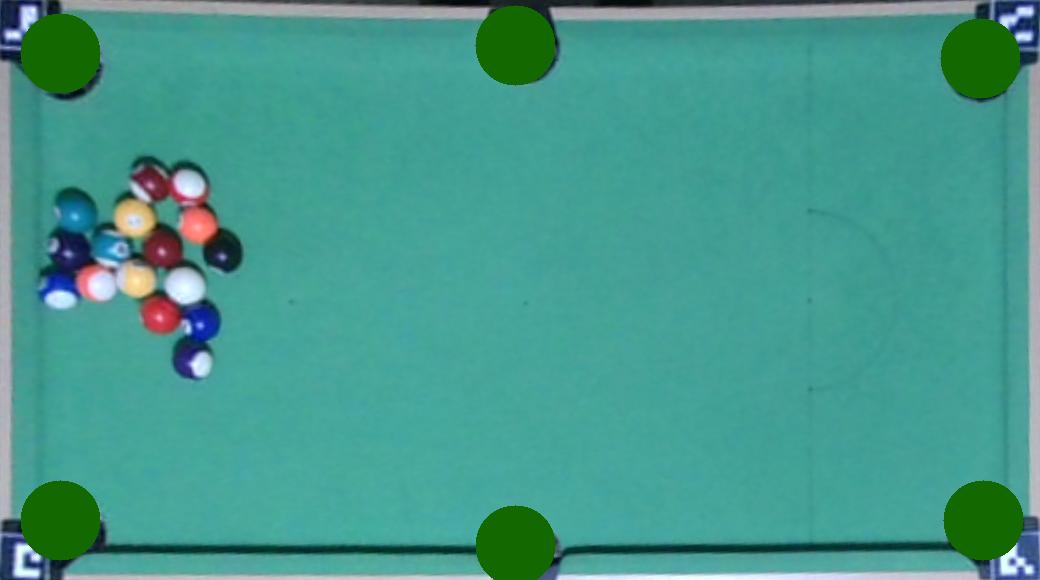Ball: (112, 198, 156, 238), (162, 266, 206, 306), (54, 193, 96, 233), (172, 340, 214, 380), (90, 225, 132, 265), (128, 163, 169, 202), (47, 231, 90, 268), (139, 297, 181, 334), (141, 228, 181, 266), (176, 207, 217, 243), (204, 234, 242, 272), (78, 267, 117, 304), (40, 272, 76, 312), (170, 168, 208, 205), (118, 260, 156, 296), (184, 304, 220, 338)
